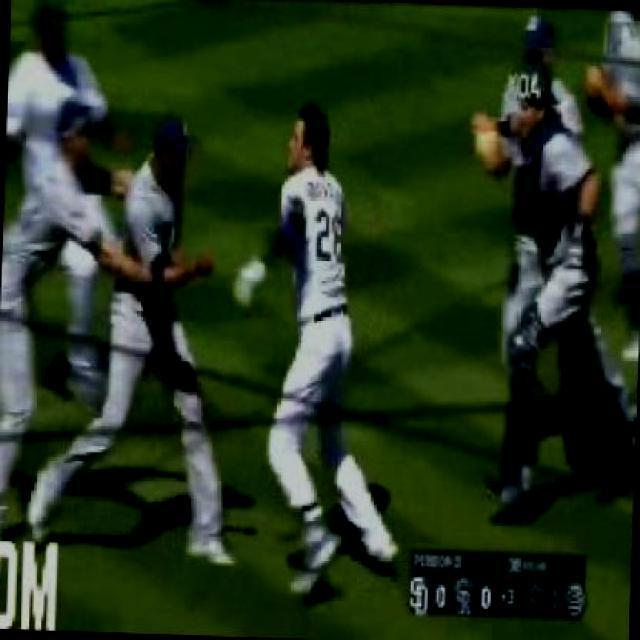fight: (26, 91, 374, 554)
